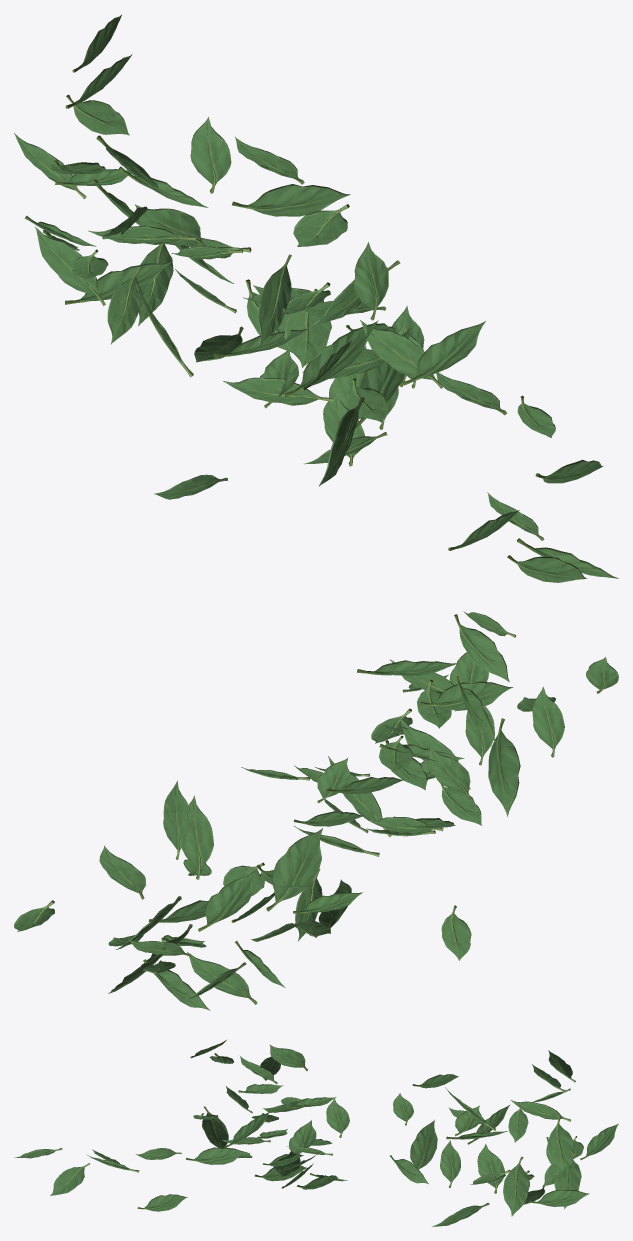
Rendered from holy_canopy17_full.glb.
3 renders of one model, top to bottom at view 1: azimuth 30°, elevation 25°; view 2: azimuth 150°, elevation 25°; view 3: azimuth 270°, elevation 25°, orthographic. The views are drawn at different scales.
Parts seen in each view (by area): view 1: holy_canopy17; view 2: holy_canopy17; view 3: holy_canopy17.
Boxes of the visible parts, x1=… form: holy_canopy17: x1=14, y1=14, x2=618, y2=582; holy_canopy17: x1=14, y1=611, x2=618, y2=1010; holy_canopy17: x1=14, y1=1040, x2=618, y2=1226.
Bounding box in the file's own units: 9.18 × 8.29 × 26.63.
Materials: 1 (1 with a texture image).
